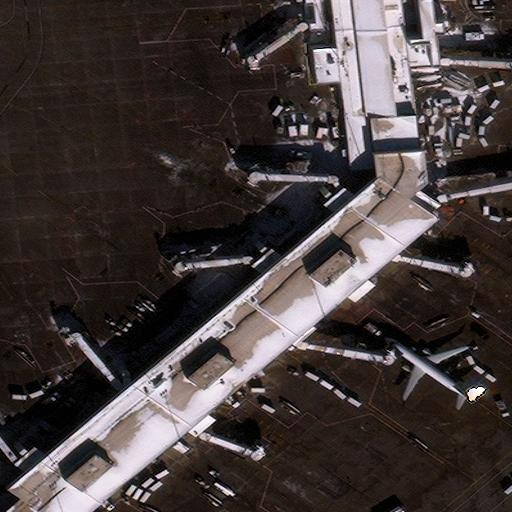Medium Civil Transport: (386, 338, 468, 397)
